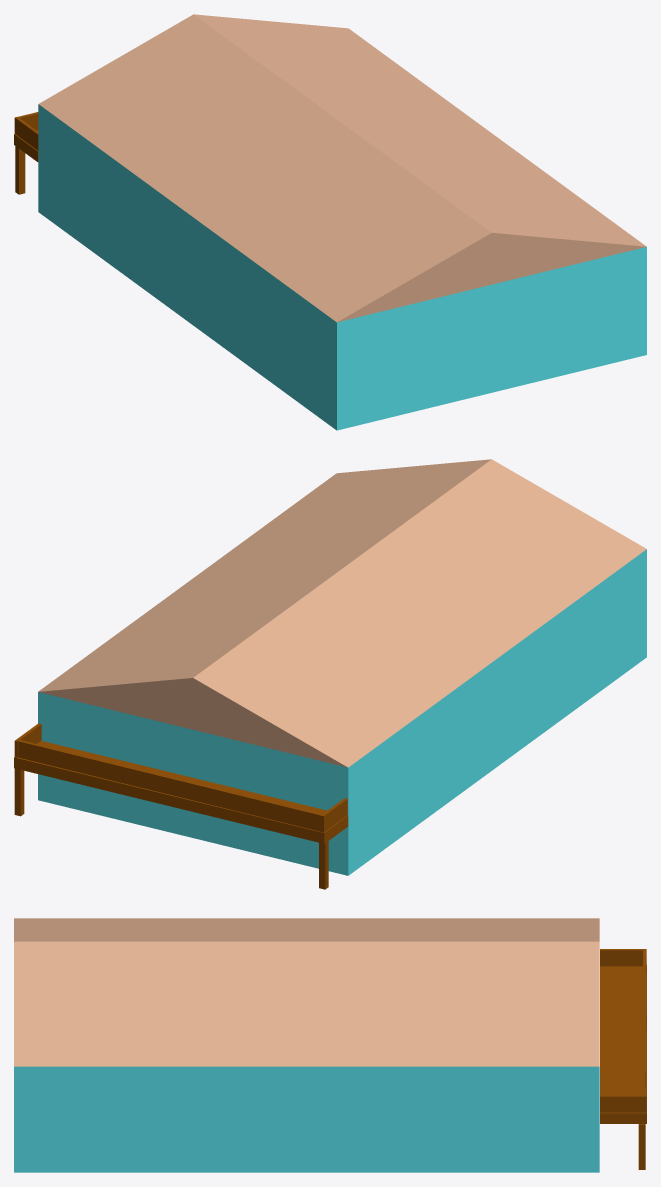
The model's file is Zelt_hellblau.fbx.
The picture shows the model from 3 angles, top to bottom: view 1: azimuth 30°, elevation 25°; view 2: azimuth 150°, elevation 25°; view 3: azimuth 270°, elevation 25°; orthographic projection. The views are drawn at different scales.
Parts seen in each view (by area): view 1: Cube.001; view 2: Cube.001, Cube.005, Cube.002; view 3: Cube.001, Cube.002, Cube.004, Cube.003, Cube.005.
Part boxes in pixels (x1=…): Cube.001: x1=38, y1=14, x2=646, y2=430; Cube.001: x1=38, y1=459, x2=646, y2=875; Cube.005: x1=18, y1=740, x2=322, y2=831; Cube.002: x1=14, y1=740, x2=348, y2=843; Cube.001: x1=14, y1=918, x2=599, y2=1172; Cube.002: x1=600, y1=965, x2=646, y2=1123; Cube.004: x1=600, y1=1095, x2=646, y2=1112; Cube.003: x1=600, y1=949, x2=646, y2=966; Cube.005: x1=642, y1=950, x2=646, y2=1095.
Size of the model in its own units: 3003 by 1531 by 5405.
